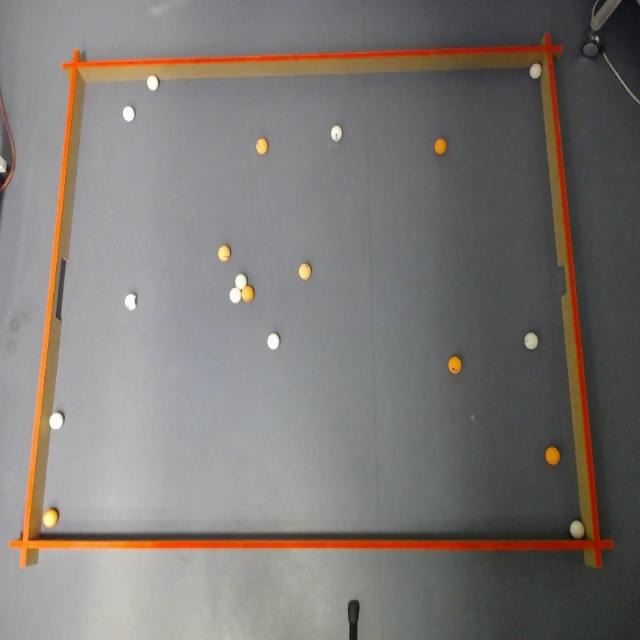orange_ball: (43, 508, 58, 528), (545, 446, 559, 466), (448, 356, 461, 374), (434, 138, 446, 155), (218, 246, 230, 262), (299, 263, 311, 279), (242, 286, 254, 302), (256, 138, 267, 154)
white_ball: (570, 520, 584, 539), (49, 412, 64, 429), (524, 332, 538, 350), (529, 63, 542, 79), (122, 106, 134, 122), (268, 333, 280, 349), (229, 288, 241, 304), (331, 125, 342, 142), (125, 294, 136, 310), (147, 76, 158, 90), (236, 274, 247, 288)
